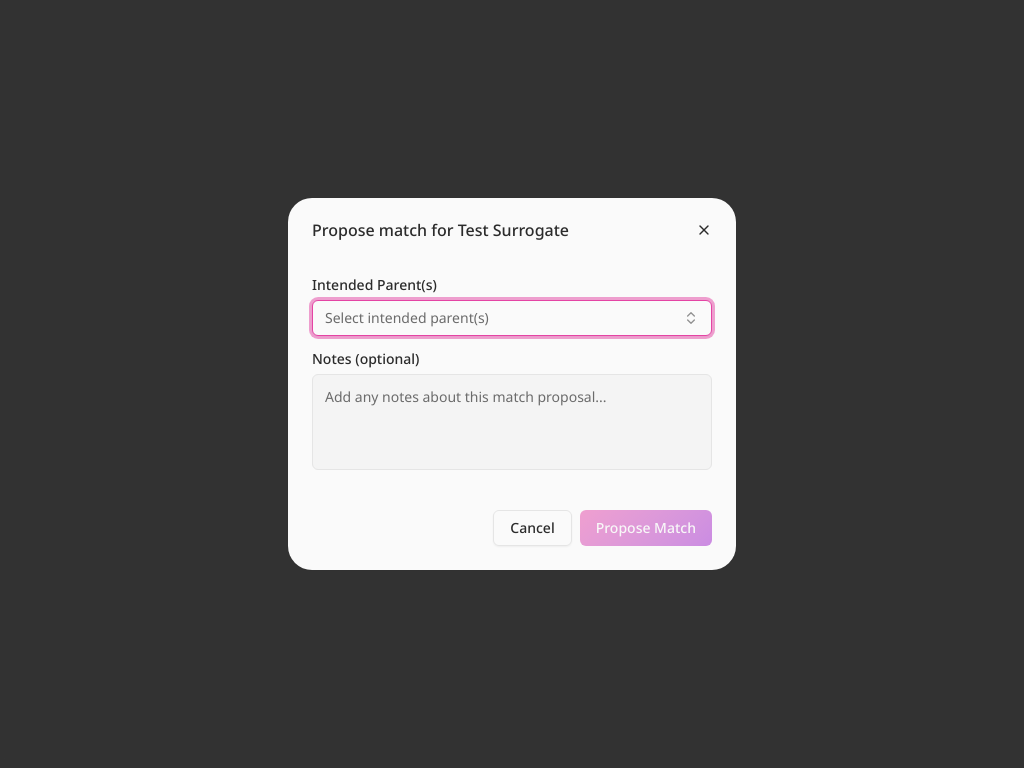
Test: ProposeMatchDialog › focuses the picker even while the intended parent list is loading
Click the button "Select intended parent(s)".
click(407, 318)  # box [312,300,712,336]
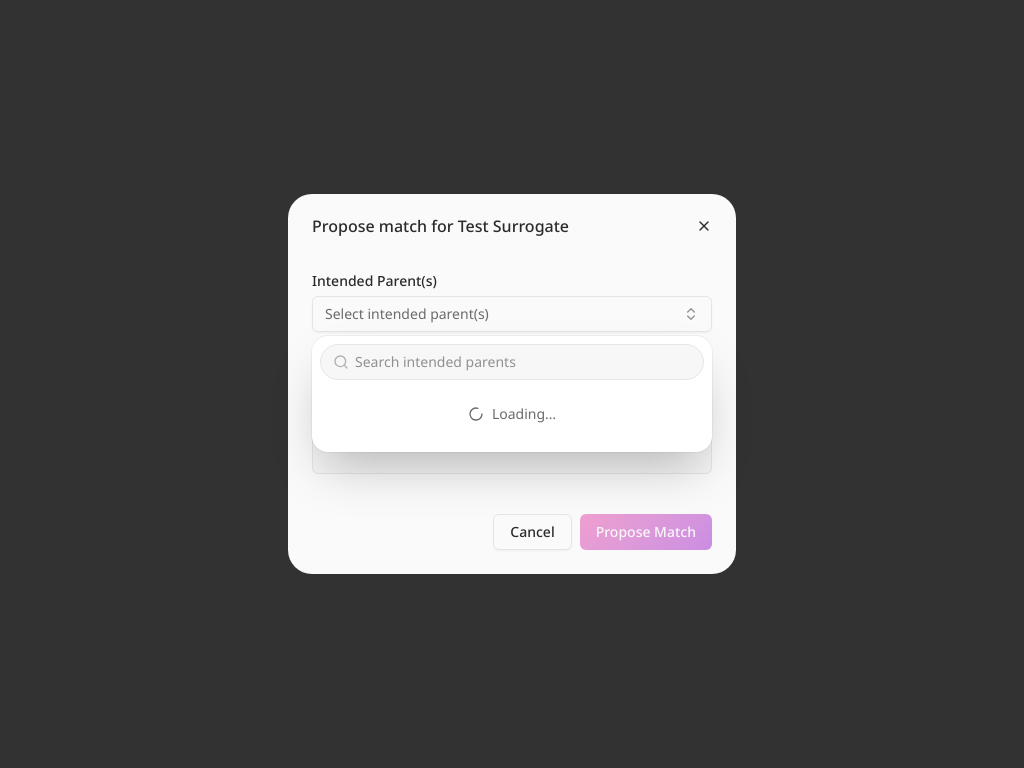
expect the message reads "Loading…": met, box [492,404,556,423]
